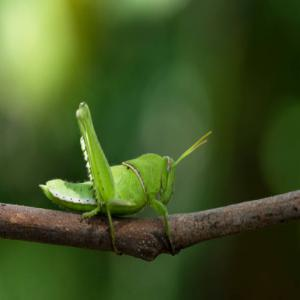locust: (42, 100, 206, 228)
